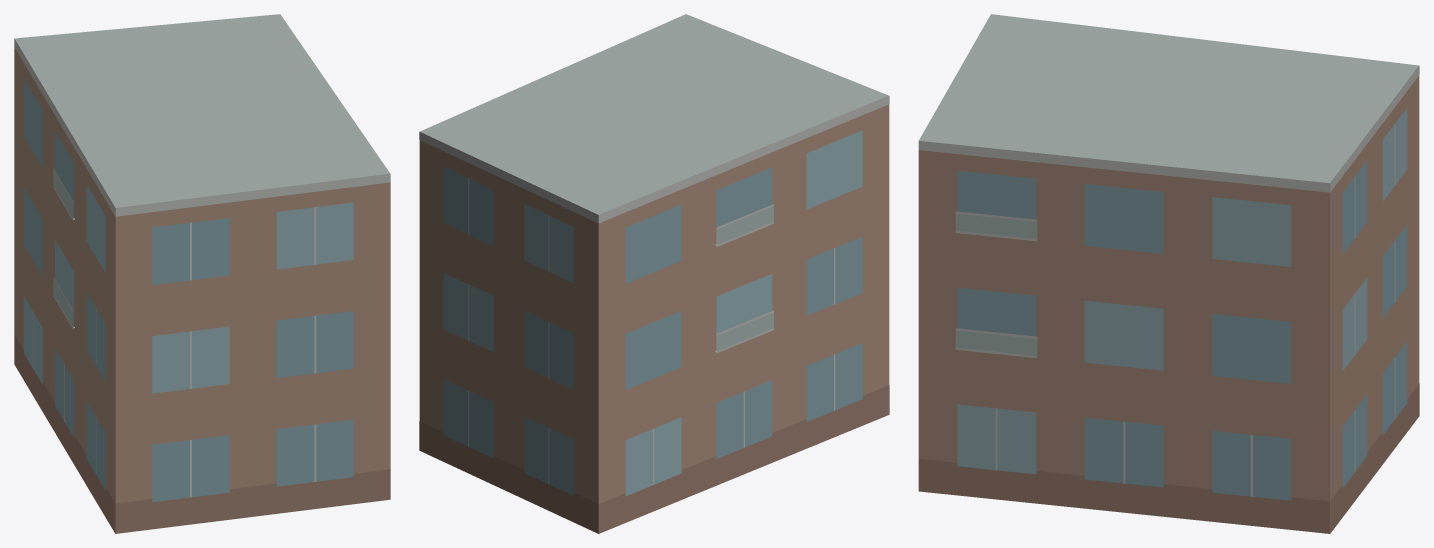
File: survey-upis-32825662.glb
The picture shows the model from 3 angles, left to right: view 1: azimuth 30°, elevation 25°; view 2: azimuth 150°, elevation 25°; view 3: azimuth 270°, elevation 25°; orthographic projection. The views are drawn at different scales.
Parts seen in each view (by area): view 1: survey-upis-32825662.tmp; view 2: survey-upis-32825662.tmp; view 3: survey-upis-32825662.tmp.
Part boxes in pixels (bbox=[...]): survey-upis-32825662.tmp: bbox=[14, 14, 390, 533]; survey-upis-32825662.tmp: bbox=[419, 14, 889, 533]; survey-upis-32825662.tmp: bbox=[918, 14, 1419, 533].
Size of the model in its own units: 9.48 by 9.15 by 11.85.
